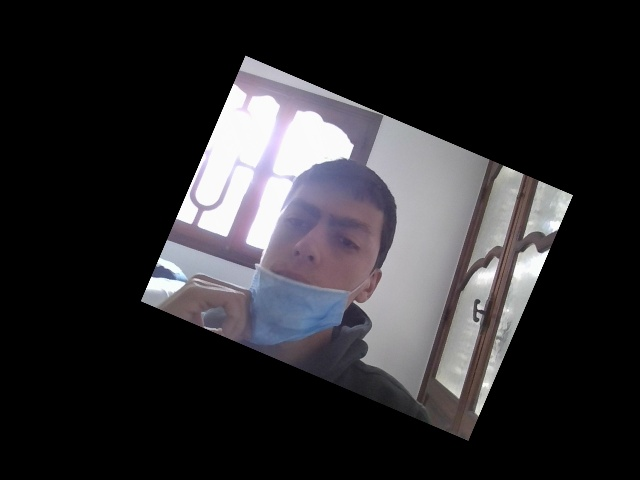mask_weared_incorrect: (252, 176, 381, 344)
